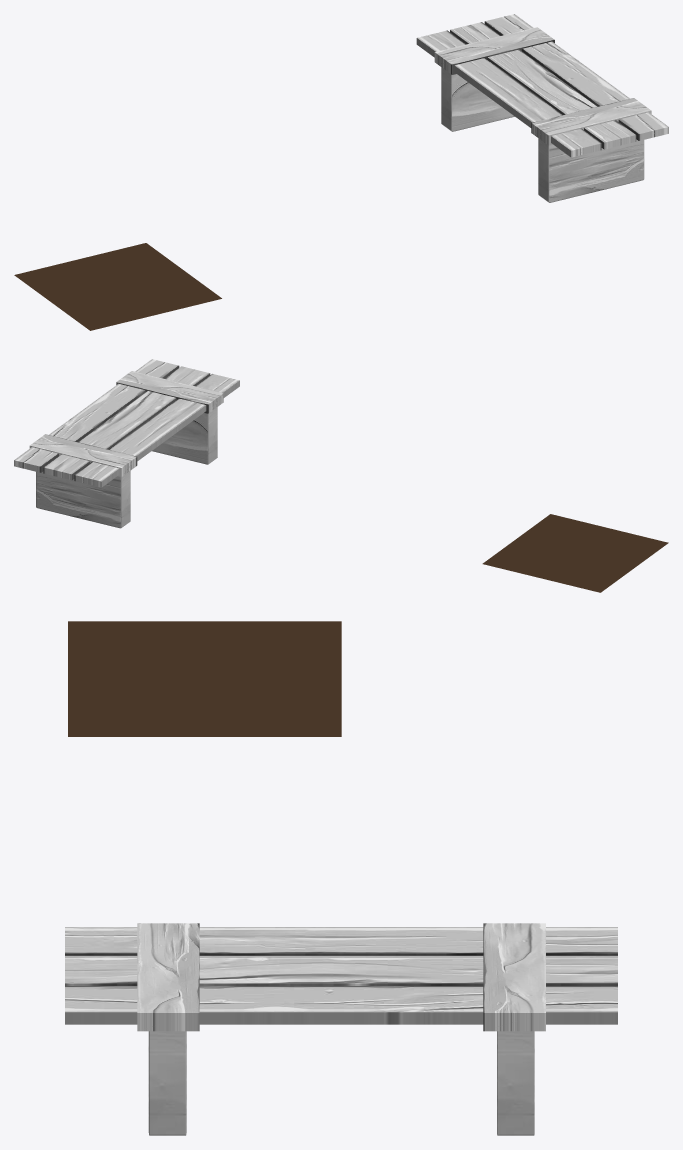
Rendered from WoodBench2.fbx.
The picture shows the model from 3 angles, top to bottom: view 1: azimuth 30°, elevation 25°; view 2: azimuth 150°, elevation 25°; view 3: azimuth 270°, elevation 25°; orthographic projection. The views are drawn at different scales.
Visible parts, largest first — view 1: Plane, Cube.003, Cube.002, Cube, Cube.001, Cube.004, Cube.006, Cube.005; view 2: Plane, Cube.004, Cube.002, Cube, Cube.001, Cube.003, Cube.006, Cube.005; view 3: Plane, Cube.001, Cube, Cube.002, Cube.005, Cube.006, Cube.003, Cube.004.
Boxes of the visible parts, x1,y1,x2,y2 form: Plane: (14,243,221,330); Cube.003: (538,138,644,202); Cube.002: (416,30,601,157); Cube: (450,22,636,149); Cube.001: (484,14,668,140); Cube.004: (441,67,514,131); Cube.006: (434,27,554,74); Cube.005: (531,98,651,145); Plane: (482,514,668,592); Cube.004: (36,471,130,528); Cube.002: (74,374,239,487); Cube: (43,366,210,480); Cube.001: (14,359,179,472); Cube.003: (152,407,217,464); Cube.006: (29,434,137,476); Cube.005: (116,371,223,413); Plane: (68,621,341,736); Cube.001: (65,986,617,1024); Cube: (65,955,617,985); Cube.002: (65,927,617,955); Cube.005: (137,923,199,1031); Cube.006: (483,923,545,1031); Cube.003: (148,1031,186,1135); Cube.004: (497,1031,534,1135).
Bounding box in the file's own units: 439 × 51.31 × 202.
